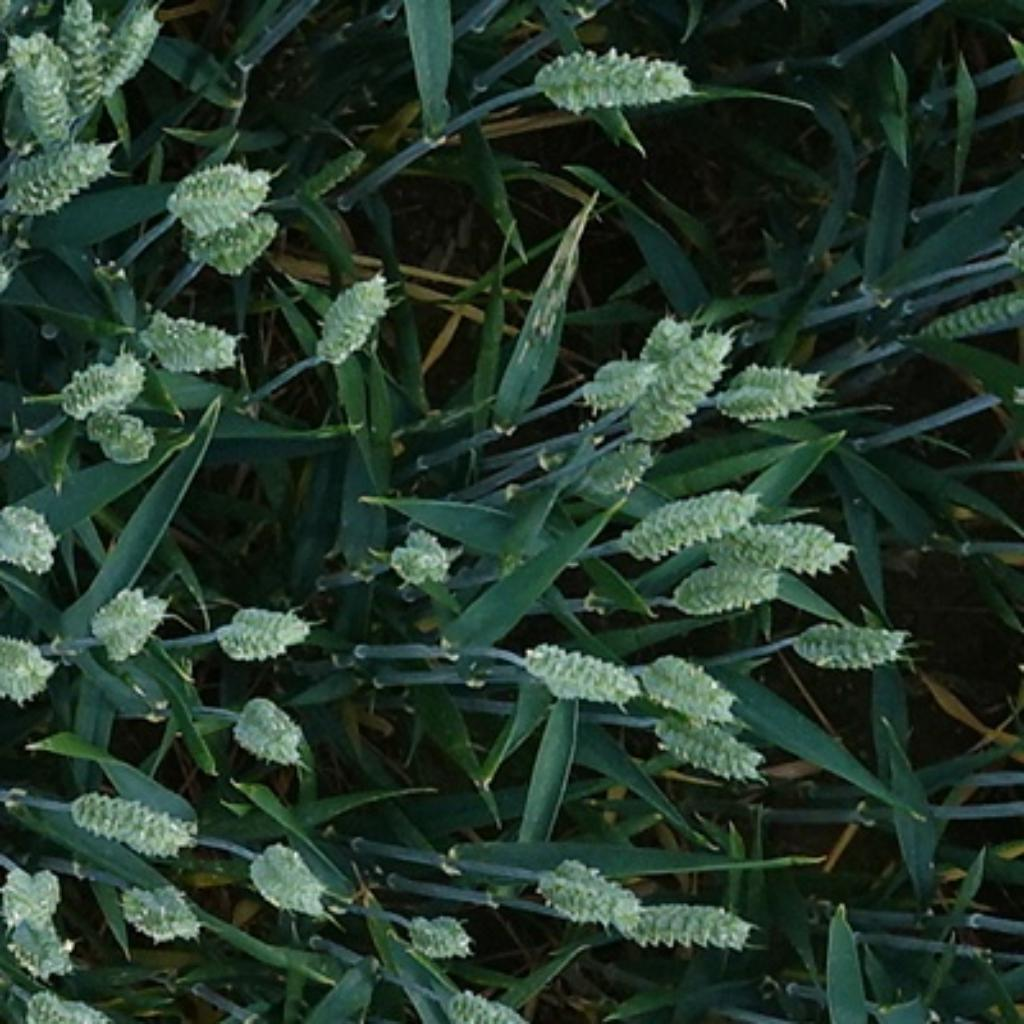0-0: (578, 317, 744, 440), (524, 35, 704, 117), (156, 140, 271, 240), (58, 780, 202, 857), (616, 483, 765, 555), (307, 258, 401, 368), (1, 133, 117, 221), (529, 849, 647, 929), (514, 634, 645, 706), (48, 345, 156, 430), (642, 709, 768, 780), (45, 0, 110, 135), (783, 609, 919, 673), (540, 430, 665, 499), (721, 509, 855, 573), (614, 890, 757, 949), (91, 1, 167, 111), (133, 302, 243, 376), (0, 38, 71, 150), (64, 389, 168, 465), (719, 348, 829, 419), (668, 552, 791, 614), (616, 307, 701, 396), (637, 647, 737, 721), (207, 596, 317, 663), (915, 288, 1017, 359), (84, 581, 174, 660), (243, 837, 332, 916), (220, 688, 309, 765), (179, 209, 286, 273), (0, 852, 71, 939), (112, 878, 204, 942), (0, 901, 71, 980), (437, 980, 558, 1024), (0, 491, 64, 573), (396, 903, 476, 962), (20, 983, 135, 1024), (0, 624, 61, 701), (296, 148, 371, 209), (581, 355, 657, 414), (386, 524, 455, 588), (0, 43, 10, 140)
